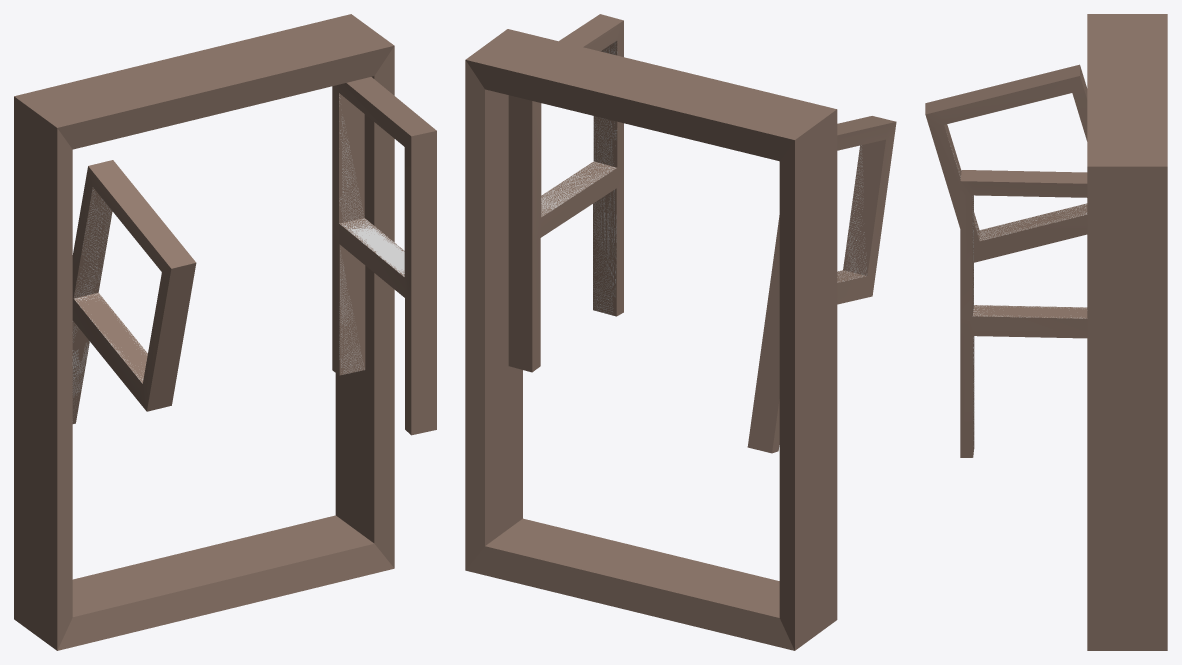
File: window2.fbx
3 views of the same model, side by side, from view 1: azimuth 30°, elevation 25°; view 2: azimuth 150°, elevation 25°; view 3: azimuth 270°, elevation 25° (orthographic). The views are drawn at different scales.
Parts seen in each view (by area): view 1: window, right_window, lefi_window; view 2: window, right_window, lefi_window; view 3: window, right_window, lefi_window.
Boxes of the visible parts, bbox=[...] form: window: bbox=[14, 14, 394, 650]; right_window: bbox=[332, 77, 436, 435]; lefi_window: bbox=[72, 160, 196, 423]; window: bbox=[465, 29, 837, 650]; right_window: bbox=[508, 14, 623, 372]; lefi_window: bbox=[747, 116, 896, 453]; window: bbox=[1087, 14, 1167, 650]; right_window: bbox=[960, 170, 1087, 457]; lefi_window: bbox=[925, 64, 1087, 262].
Bounding box in the file's own units: 2.7 × 4 × 1.81.
